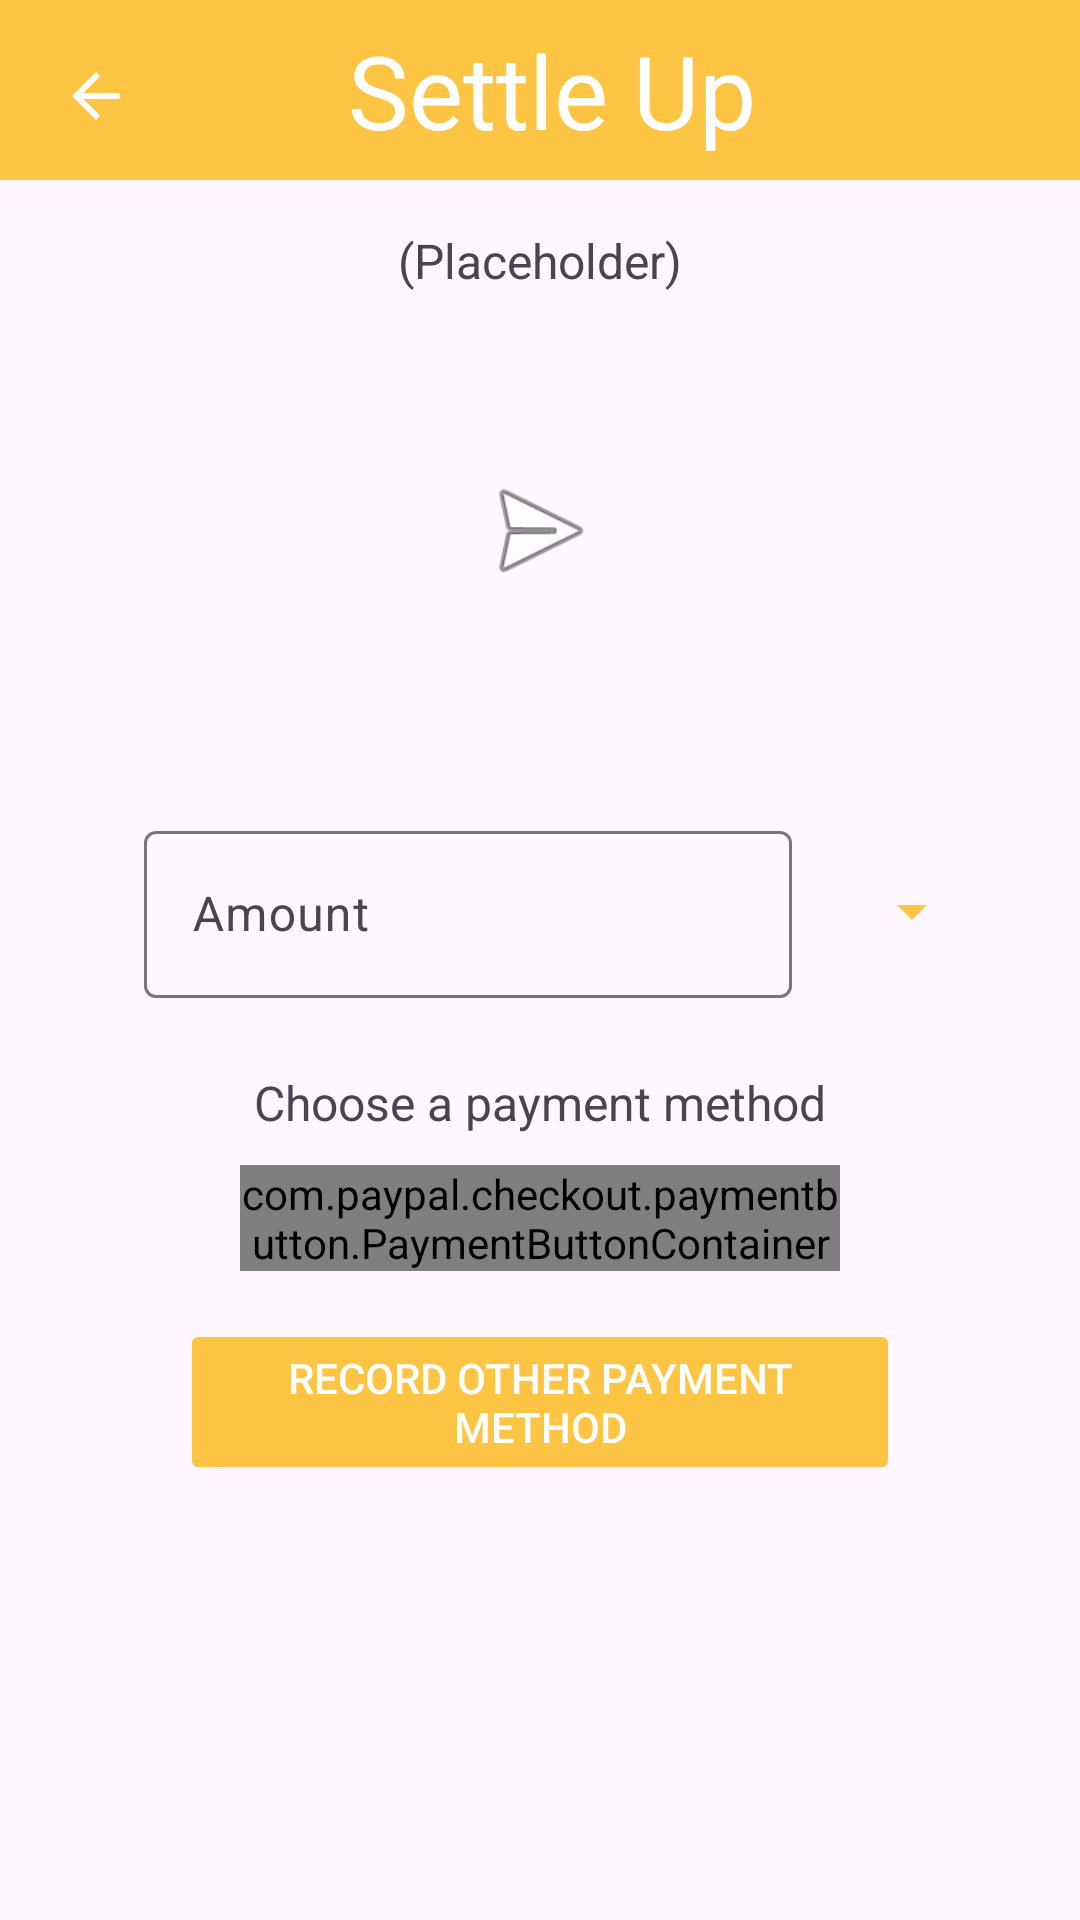

Where icons sit on this 1080w x 1920h app screen, as (x1, y1, x2, y2):
Back: (72, 72, 120, 120)
send: (499, 489, 584, 573)
